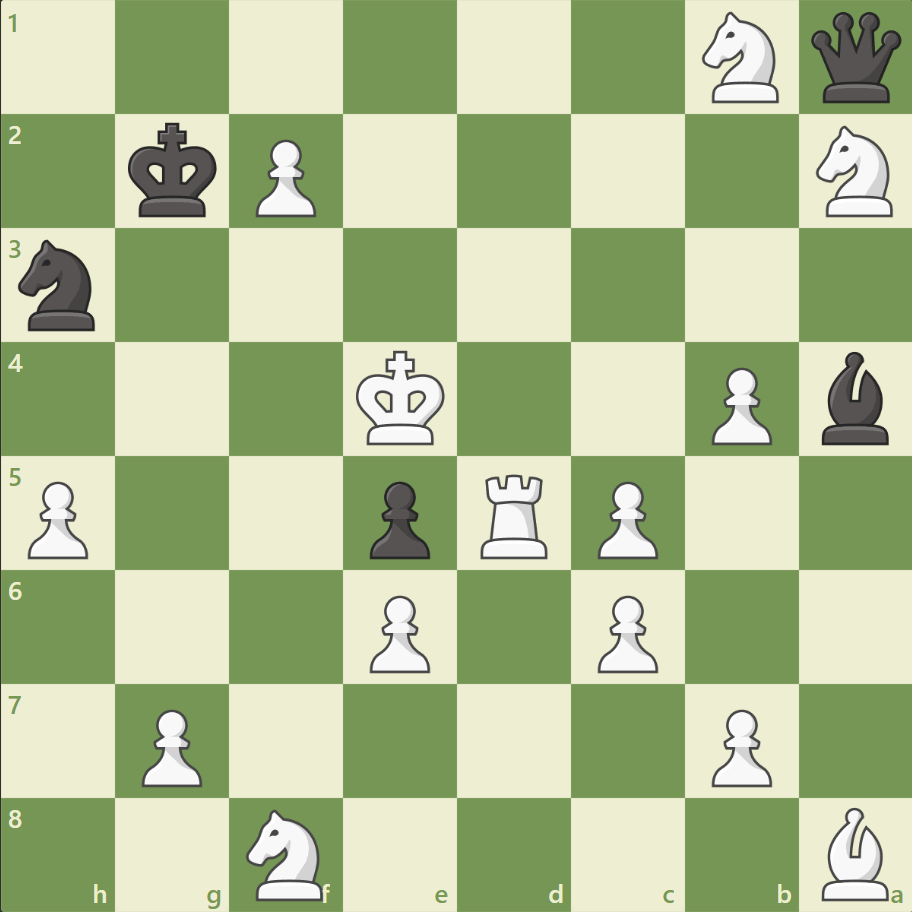B: (812, 801, 896, 904)
K: (351, 344, 451, 452)
N: (692, 7, 789, 110), (238, 802, 335, 904), (806, 121, 903, 223)
P: (701, 700, 776, 791), (133, 700, 208, 791), (20, 473, 95, 564), (701, 359, 776, 450), (247, 132, 322, 223), (588, 586, 662, 677), (361, 586, 435, 677), (588, 473, 662, 564)
R: (473, 466, 556, 563)
b: (812, 347, 896, 449)
k: (124, 117, 224, 225)
n: (11, 234, 108, 337)
p: (361, 473, 435, 564)
q: (805, 9, 904, 108)
